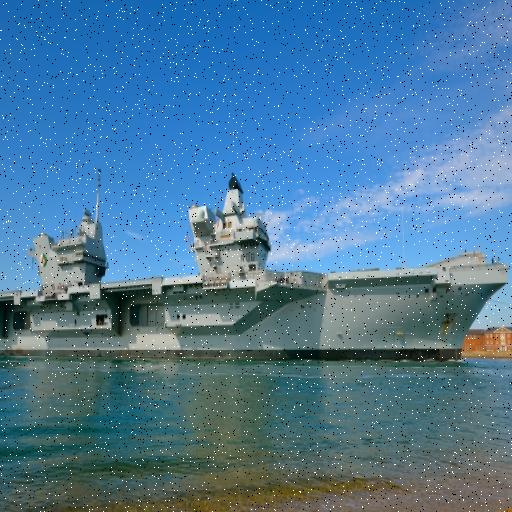Portanaves: (1, 155, 512, 371)
